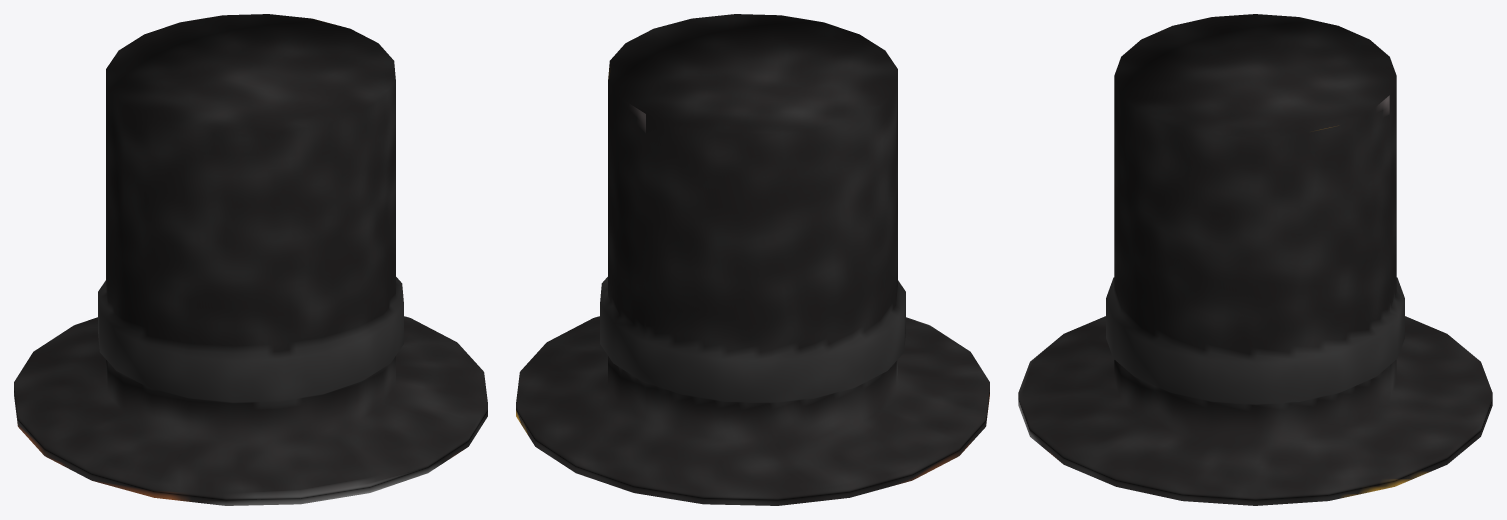
File: tophat.fbx
3 views of the same model, side by side, from view 1: azimuth 30°, elevation 25°; view 2: azimuth 150°, elevation 25°; view 3: azimuth 270°, elevation 25° (orthographic).
Visible parts, largest first — view 1: tophat; view 2: tophat; view 3: tophat.
Boxes of the visible parts, x1,y1,x2,y2 form: tophat: (14, 14, 487, 505); tophat: (516, 14, 989, 505); tophat: (1018, 14, 1492, 505).
Size of the model in its own units: 1.75 by 1.35 by 1.75.
